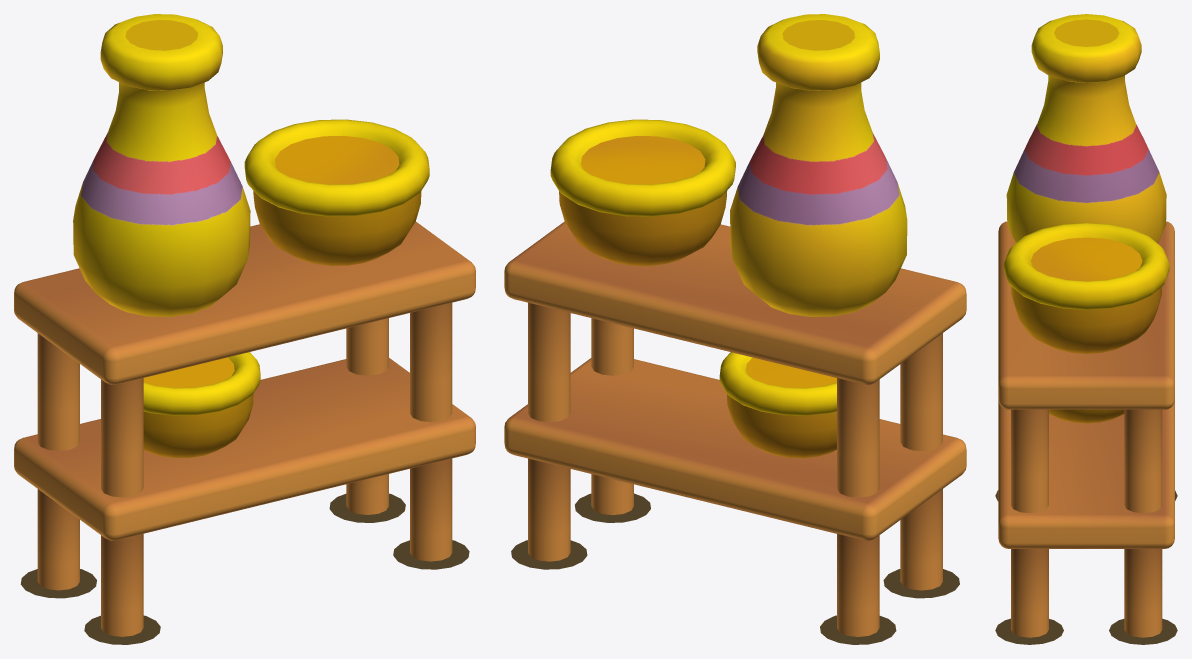
Rendered from E_Rack.fbx.
3 views of the same model, side by side, from view 1: azimuth 30°, elevation 25°; view 2: azimuth 150°, elevation 25°; view 3: azimuth 270°, elevation 25° (orthographic). The views are drawn at different scales.
Parts seen in each view (by area): view 1: E_rack_pCylinder80, pCylinder77, pSphere39, pSphere40, shadow7; view 2: E_rack_pCylinder80, pCylinder77, pSphere39, pSphere40, shadow7; view 3: E_rack_pCylinder80, pCylinder77, pSphere39, shadow7, pSphere40.
Part boxes in pixels (<box>): E_rack_pCylinder80: <box>14,221,475,636</box>; pCylinder77: <box>73,14,250,316</box>; pSphere39: <box>244,119,429,265</box>; pSphere40: <box>143,352,260,457</box>; shadow7: <box>20,493,469,644</box>; E_rack_pCylinder80: <box>504,221,966,636</box>; pCylinder77: <box>730,14,907,316</box>; pSphere39: <box>550,119,735,265</box>; pSphere40: <box>719,352,836,458</box>; shadow7: <box>511,493,959,644</box>; E_rack_pCylinder80: <box>998,221,1174,637</box>; pCylinder77: <box>1006,14,1166,243</box>; pSphere39: <box>1003,223,1169,353</box>; shadow7: <box>995,490,1177,644</box>; pSphere40: <box>1049,409,1124,423</box>.
Bounding box in the file's own units: 175 × 246 × 82.44.
